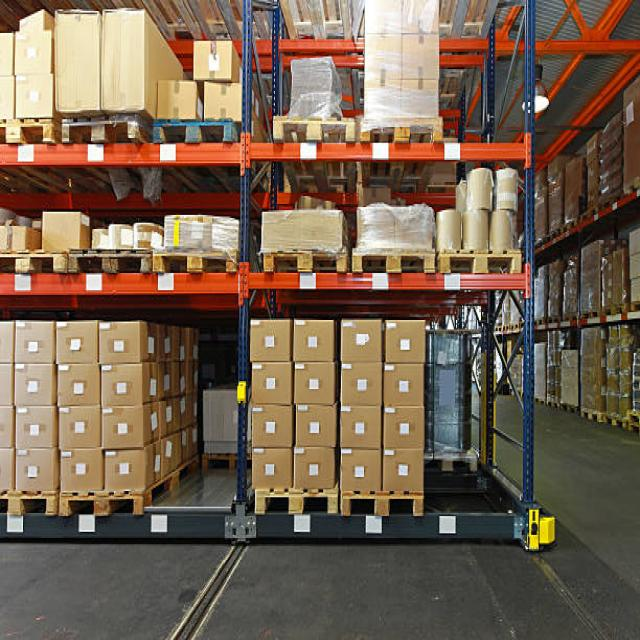Wooden-Pallets: (250, 486, 338, 519), (341, 493, 429, 522), (61, 114, 145, 144), (439, 252, 525, 281), (57, 490, 146, 518), (353, 250, 435, 280), (153, 251, 240, 279), (150, 117, 238, 144), (258, 250, 350, 275), (267, 116, 355, 142), (358, 124, 446, 150), (67, 251, 156, 275)
